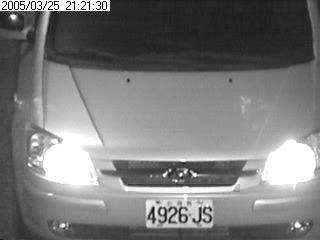plate: (143, 198, 216, 230)
